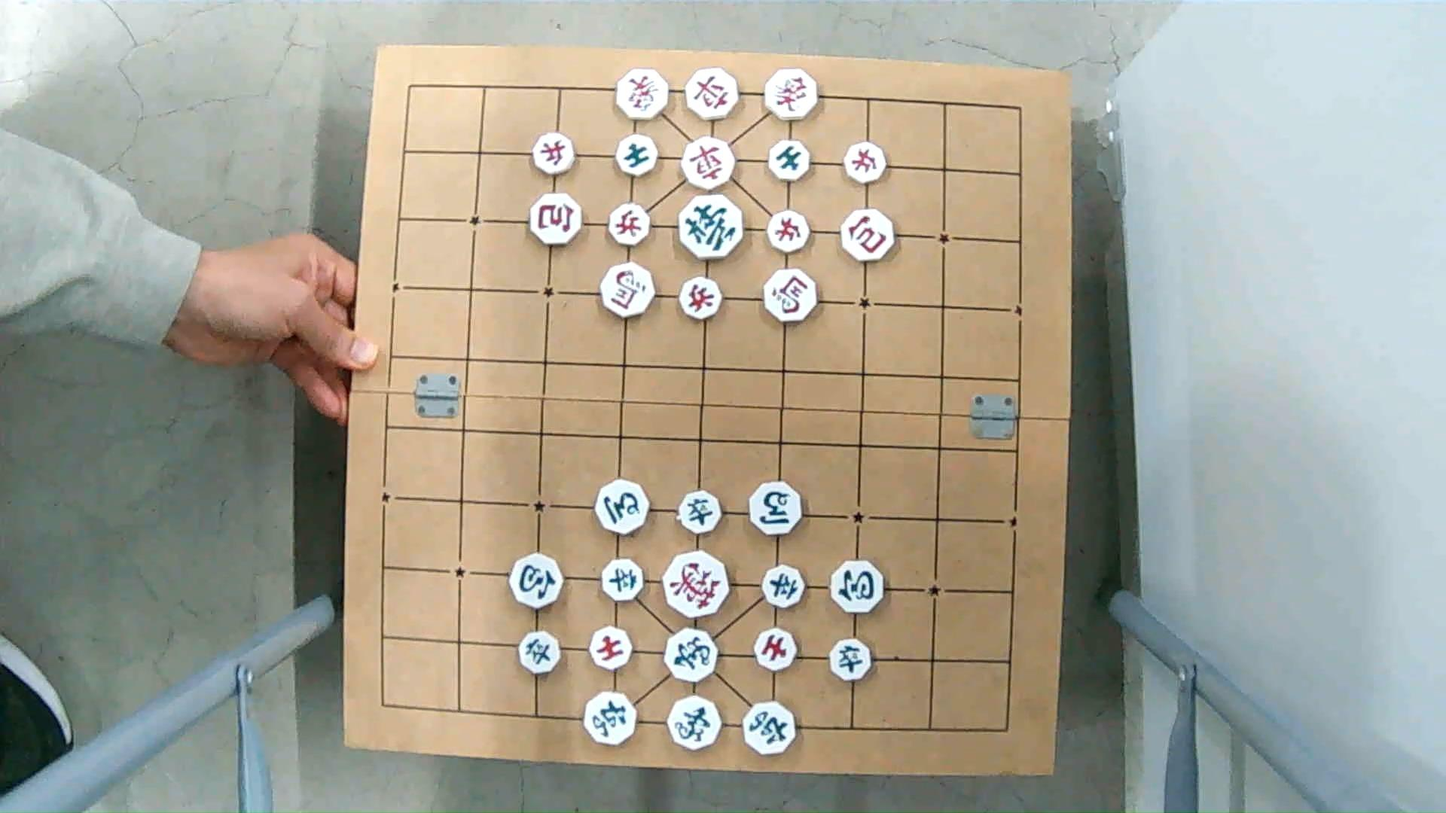cha_green: (745, 700, 801, 754), (582, 694, 639, 745)
cha_red: (683, 138, 740, 188), (687, 72, 743, 119)
jol_green: (761, 564, 805, 609), (679, 492, 724, 533), (601, 561, 647, 601), (520, 634, 563, 674), (828, 640, 872, 679)
jol_red: (609, 203, 654, 249), (765, 208, 809, 251), (676, 279, 721, 318), (532, 135, 576, 173), (847, 143, 889, 181)
ma_green: (750, 480, 805, 534), (596, 483, 653, 533)
ma_red: (602, 263, 657, 321), (763, 266, 816, 323)
po_green: (509, 556, 565, 608), (831, 564, 886, 614)
po_red: (843, 213, 898, 261), (529, 198, 582, 245)
sa_green: (766, 138, 809, 184), (617, 136, 660, 175)
sa_red: (752, 626, 801, 671), (590, 626, 635, 671)
sang_green: (666, 697, 728, 748), (664, 628, 722, 681)
sang_red: (766, 72, 822, 120), (617, 72, 673, 120)
wang_green: (680, 196, 743, 260)
wang_red: (661, 557, 731, 617)
